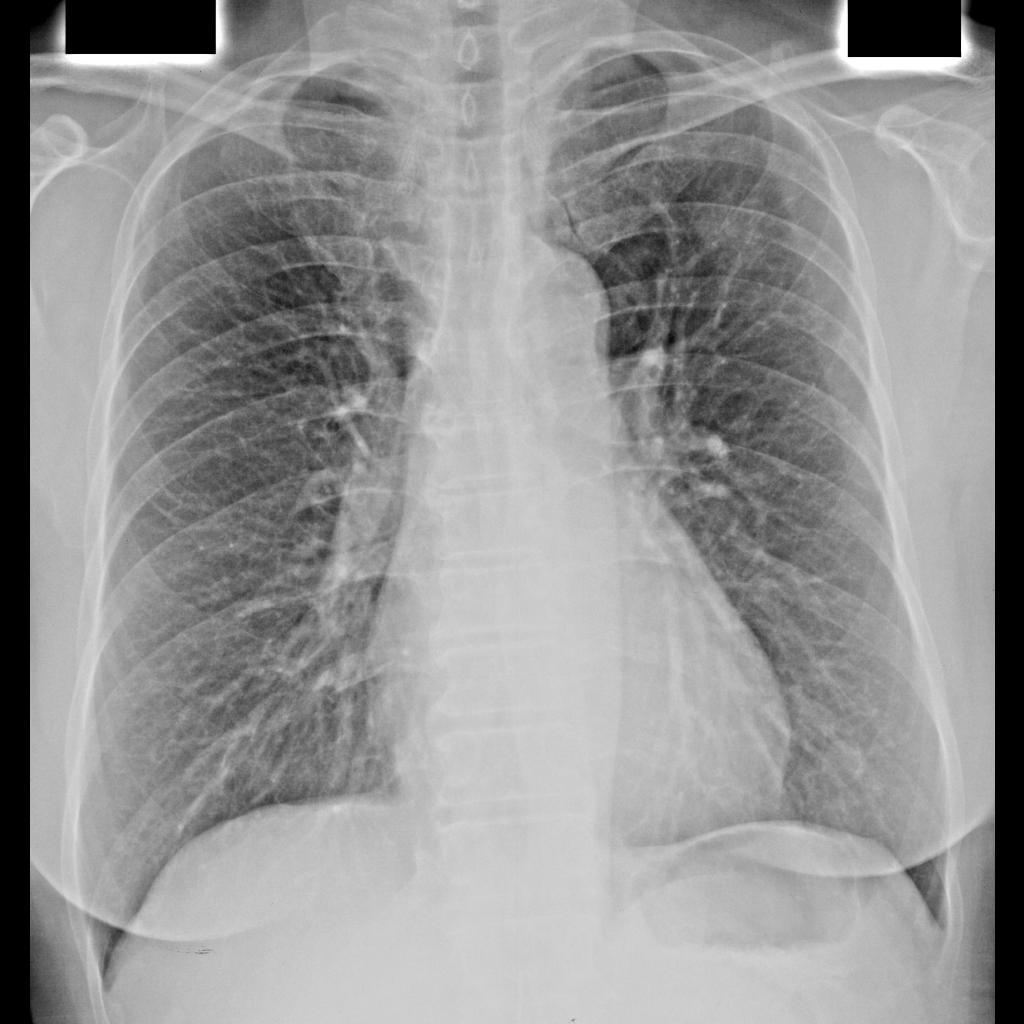Nodule: (687, 185, 779, 277)
